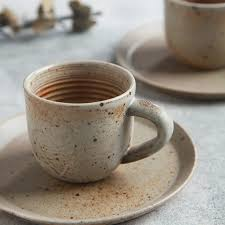mug: (18, 53, 184, 191)
